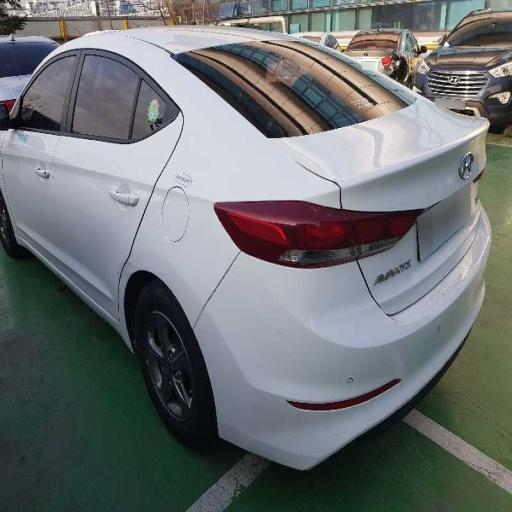normal: (10, 22, 506, 456)
